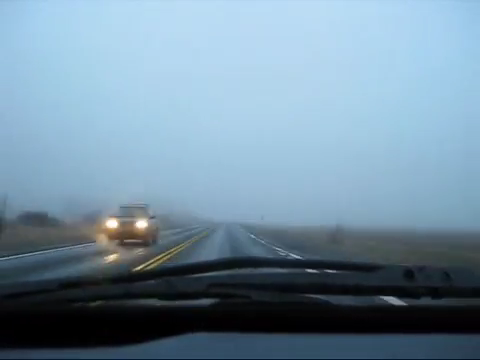car: (102, 202, 160, 246)
